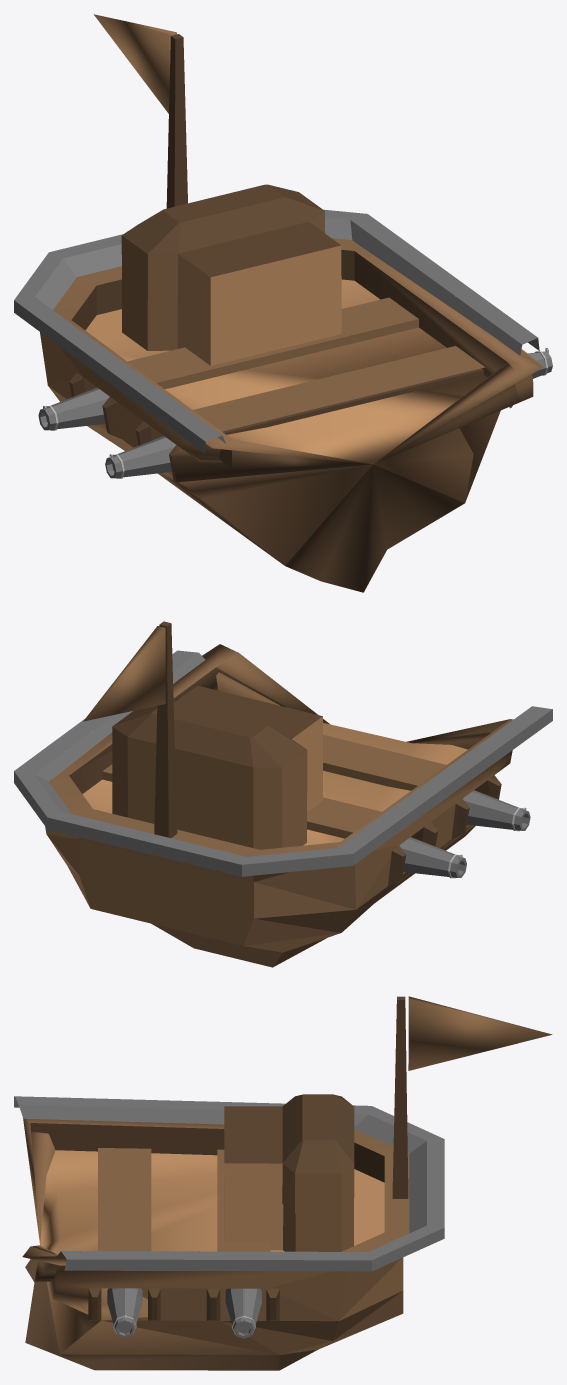
Rendered from SinkingBoat_Back.fbx.
The picture shows the model from 3 angles, top to bottom: view 1: azimuth 30°, elevation 25°; view 2: azimuth 150°, elevation 25°; view 3: azimuth 270°, elevation 25°; orthographic projection. The views are drawn at different scales.
Parts seen in each view (by area): view 1: Cañonero.002; view 2: Cañonero.002; view 3: Cañonero.002.
Part boxes in pixels (x1=…): Cañonero.002: x1=14, y1=14, x2=552, y2=592; Cañonero.002: x1=14, y1=621, x2=552, y2=967; Cañonero.002: x1=14, y1=996, x2=552, y2=1370.
Size of the model in its own units: 989 by 860 by 1182.
